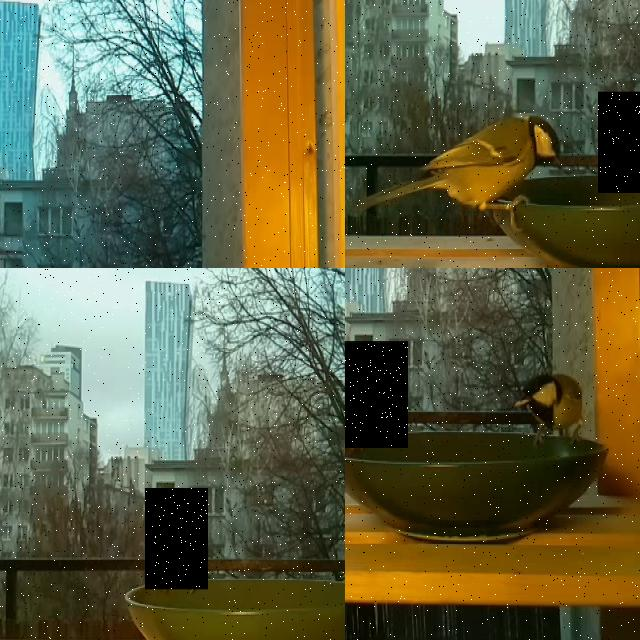Bogatka: (349, 112, 567, 238), (145, 488, 208, 589), (514, 372, 586, 441)
Wrobel: (345, 341, 408, 447), (598, 91, 640, 193)
